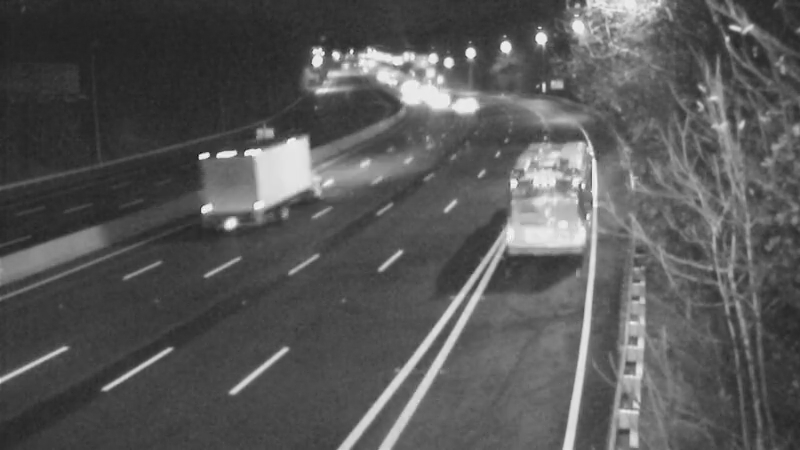vehicle: (486, 157, 566, 237), (226, 121, 306, 201), (386, 75, 436, 125), (415, 80, 465, 130), (435, 77, 485, 127)
